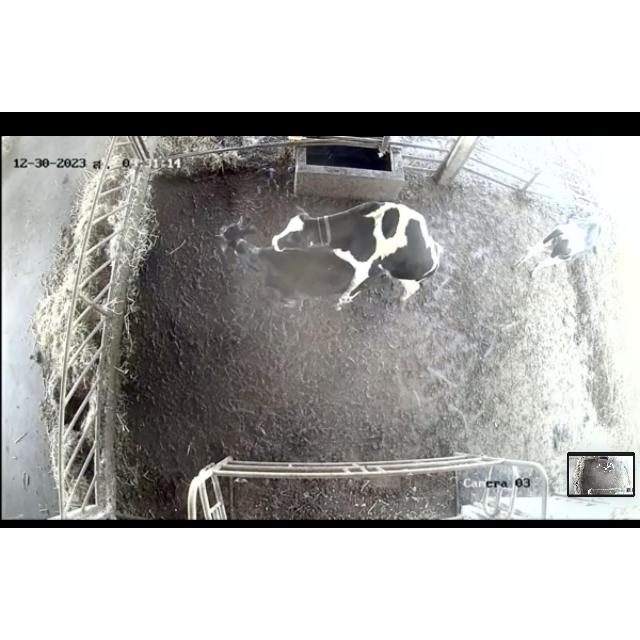ride: (267, 198, 447, 320)
